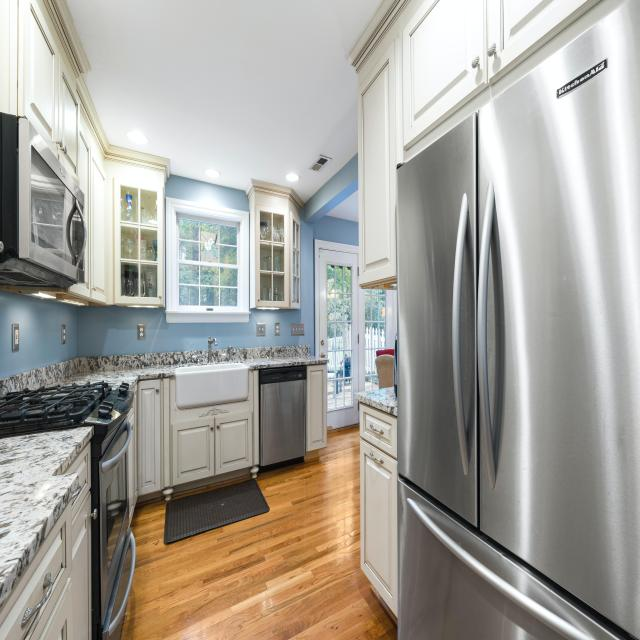dishwasher: (258, 364, 308, 468)
